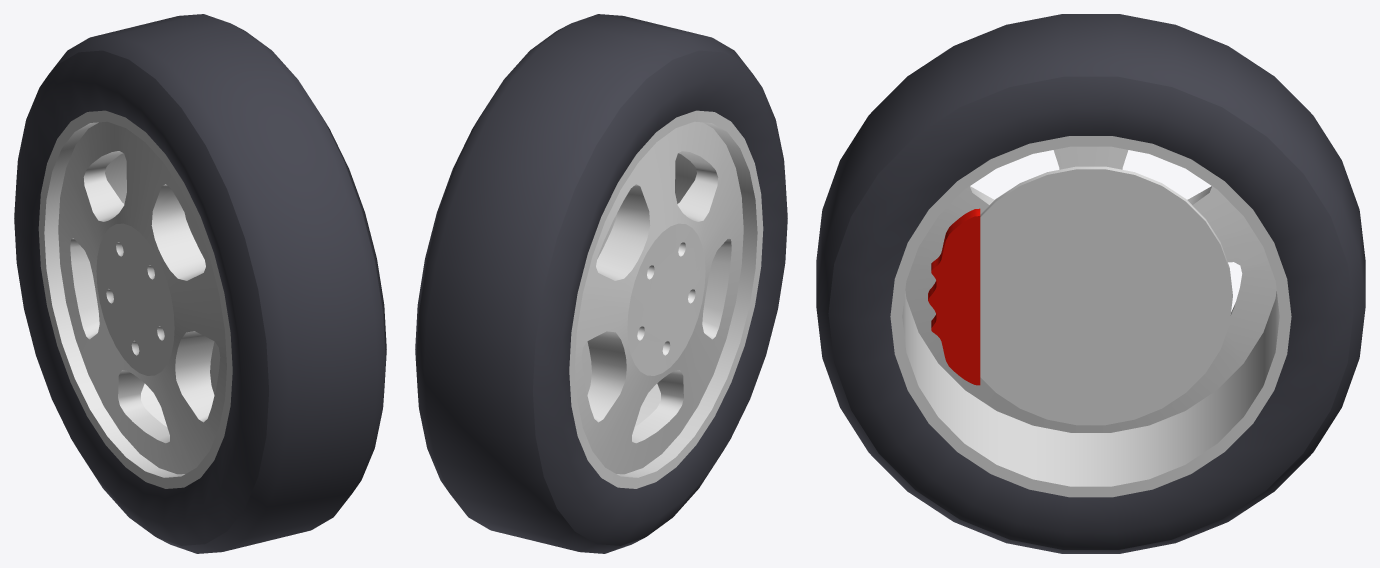
Rendered from wheel.fbx.
3 views of the same model, side by side, from view 1: azimuth 30°, elevation 25°; view 2: azimuth 150°, elevation 25°; view 3: azimuth 270°, elevation 25° (orthographic). The views are drawn at different scales.
Visible parts, largest first — view 1: Wheel; view 2: Wheel; view 3: Wheel.
Boxes of the visible parts, left/top/right/bottom form: Wheel: left=14, top=14, right=386, bottom=553; Wheel: left=415, top=14, right=787, bottom=553; Wheel: left=816, top=14, right=1365, bottom=553.
Size of the model in its own units: 21.26 by 67.29 by 67.66.
